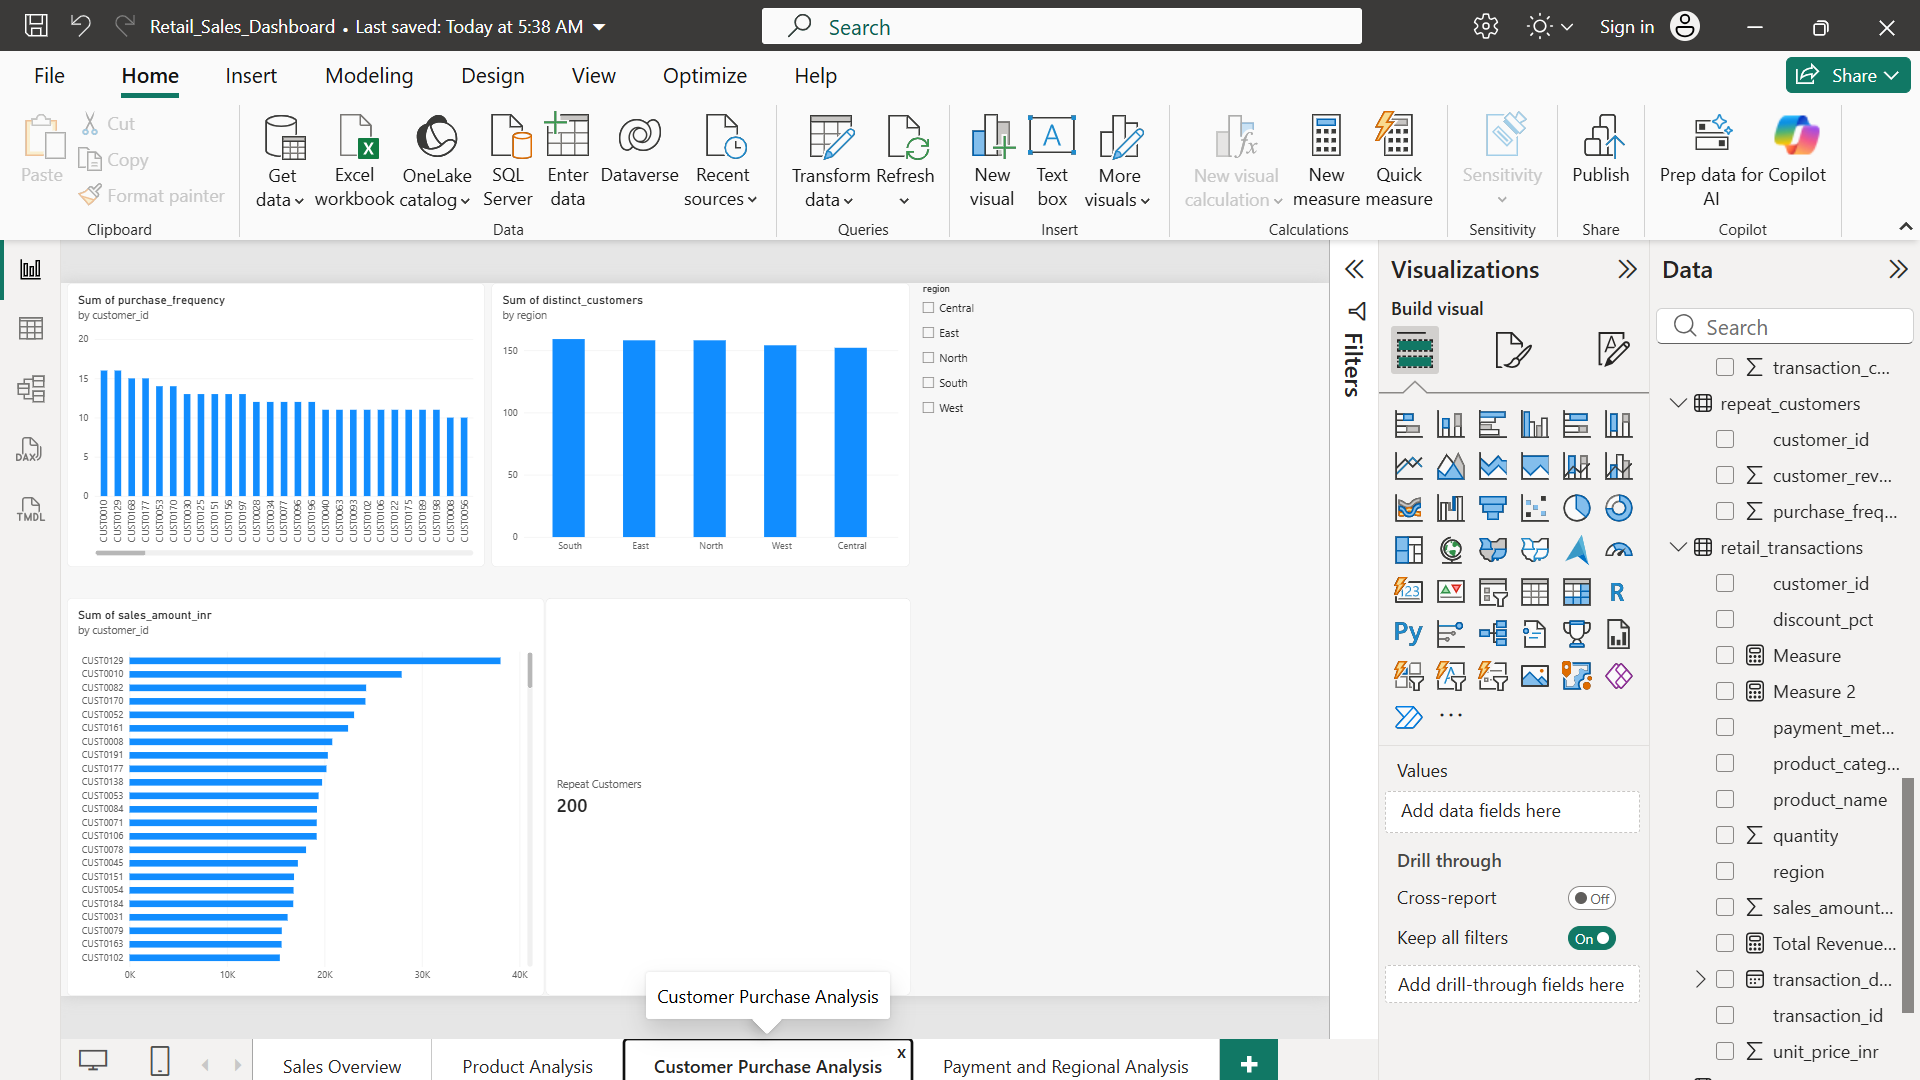

Layout of this report page (visuals, bound fields, positions):
{"tool":"powerbi","page":{"name":"Customer Purchase Analysis","canvas":[1920,1080],"ordinal":2},"visuals":[{"type":"columnChart","fields":{"Category":["repeat_customers.customer_id"],"Y":["Sum(repeat_customers.purchase_frequency)"]},"box":[9.1,0,1010.7,561],"z":0},{"type":"clusteredBarChart","fields":{"Category":["retail_transactions.customer_id"],"Y":["Sum(retail_transactions.sales_amount_inr)"]},"box":[9.1,561,1444.6,517.9],"z":1000},{"type":"slicer","fields":{"Values":["retail_transactions.region"]},"box":[1503.6,638.2,415.6,279.4],"z":2000},{"type":"columnChart","fields":{"Category":["regional_distribution.region"],"Y":["Sum(regional_distribution.distinct_customers)"]},"box":[1017.8,0,902.3,561.6],"z":3000},{"type":"cardVisual","fields":{"Data":["CountNonNull(repeat_customers.customer_id)"]},"box":[1564.9,883.5,354.3,195.3],"z":4000}]}

Visuals, with their boxes on the page's 1920x1080 design canvas (x1, y1, x2, y2). These are canvas units, not pixel positions in the 1920x1080 screenshot, which may show the page scaled, cropped or inside an application window:
columnChart - repeat_customers.customer_id x Sum(repeat_customers.purchase_frequency): (x1=9, y1=0, x2=1020, y2=561)
clusteredBarChart - retail_transactions.customer_id x Sum(retail_transactions.sales_amount_inr): (x1=9, y1=561, x2=1454, y2=1079)
slicer - retail_transactions.region: (x1=1504, y1=638, x2=1919, y2=918)
columnChart - regional_distribution.region x Sum(regional_distribution.distinct_customers): (x1=1018, y1=0, x2=1920, y2=562)
cardVisual - CountNonNull(repeat_customers.customer_id): (x1=1565, y1=884, x2=1919, y2=1079)
